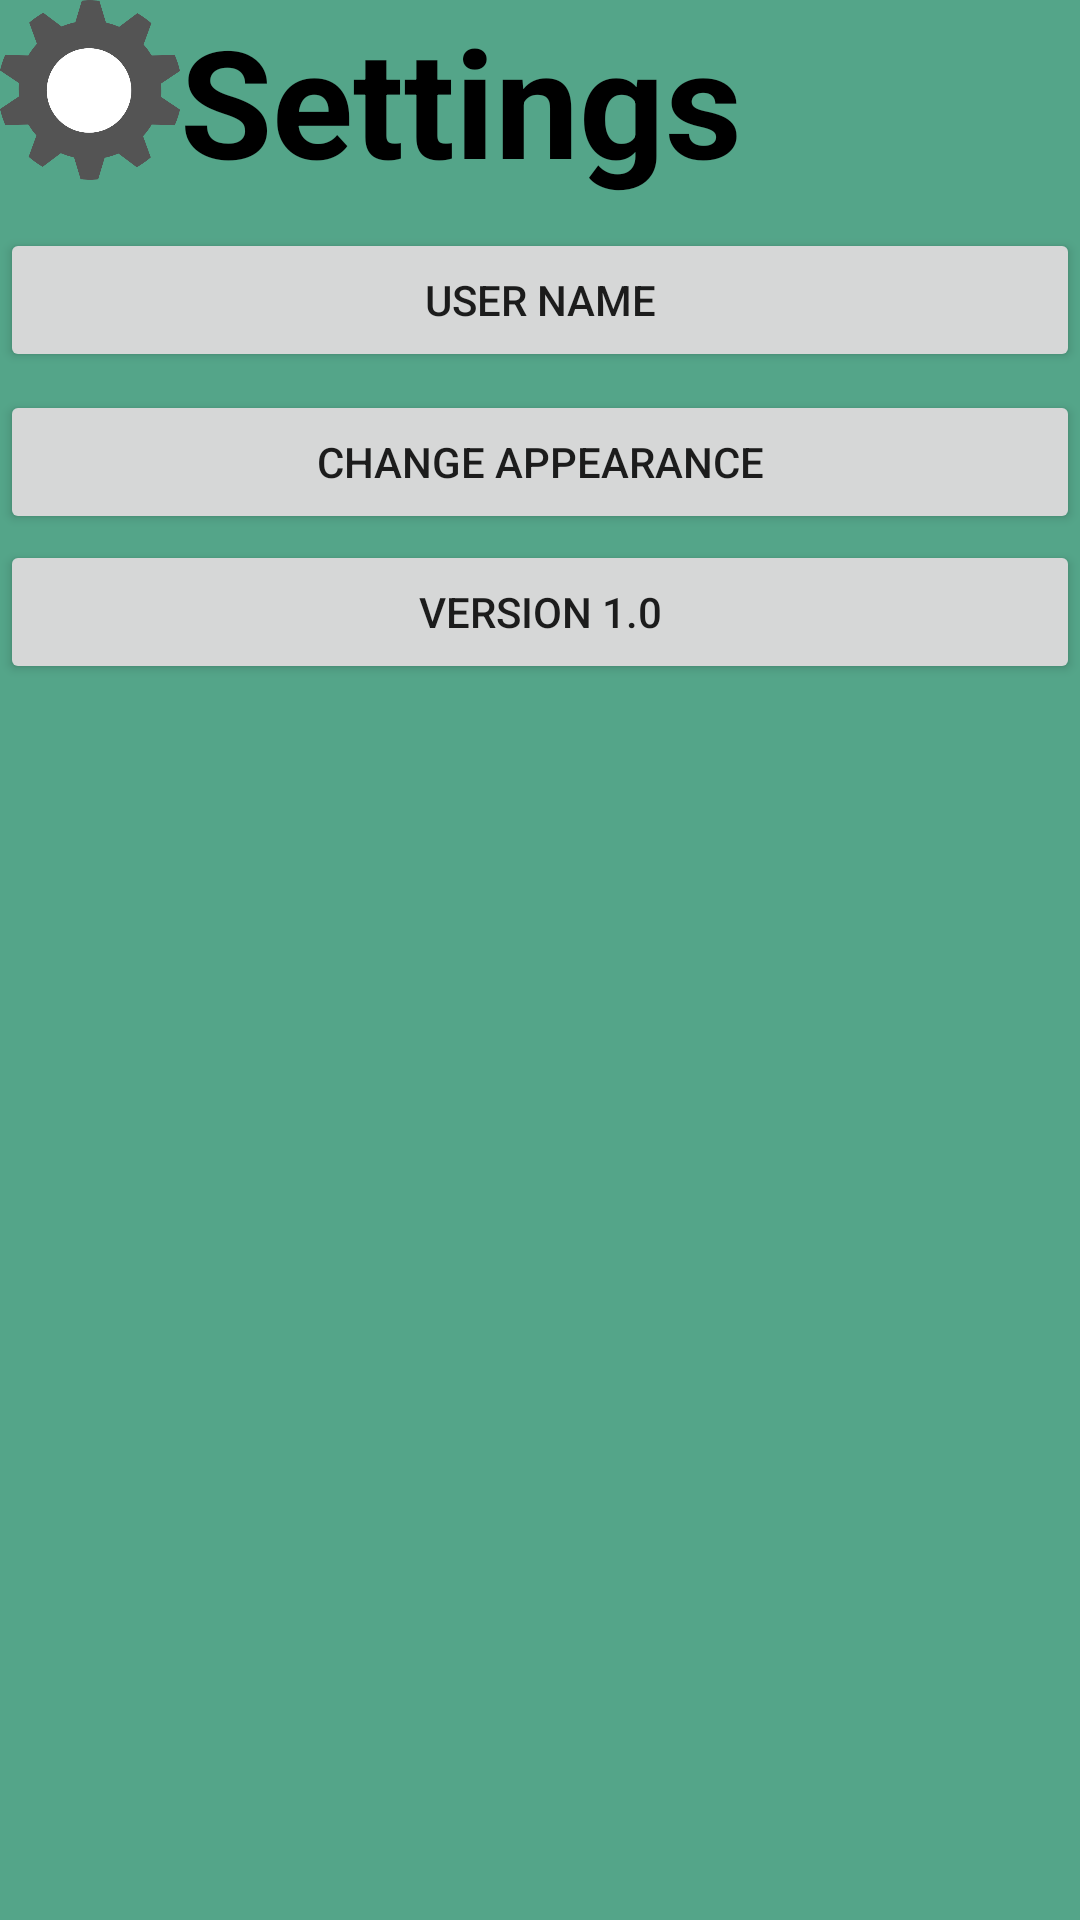

Icons on this 1080×1920 Android screen, each with the point to tap as [x,y]:
gear: [90,90]
